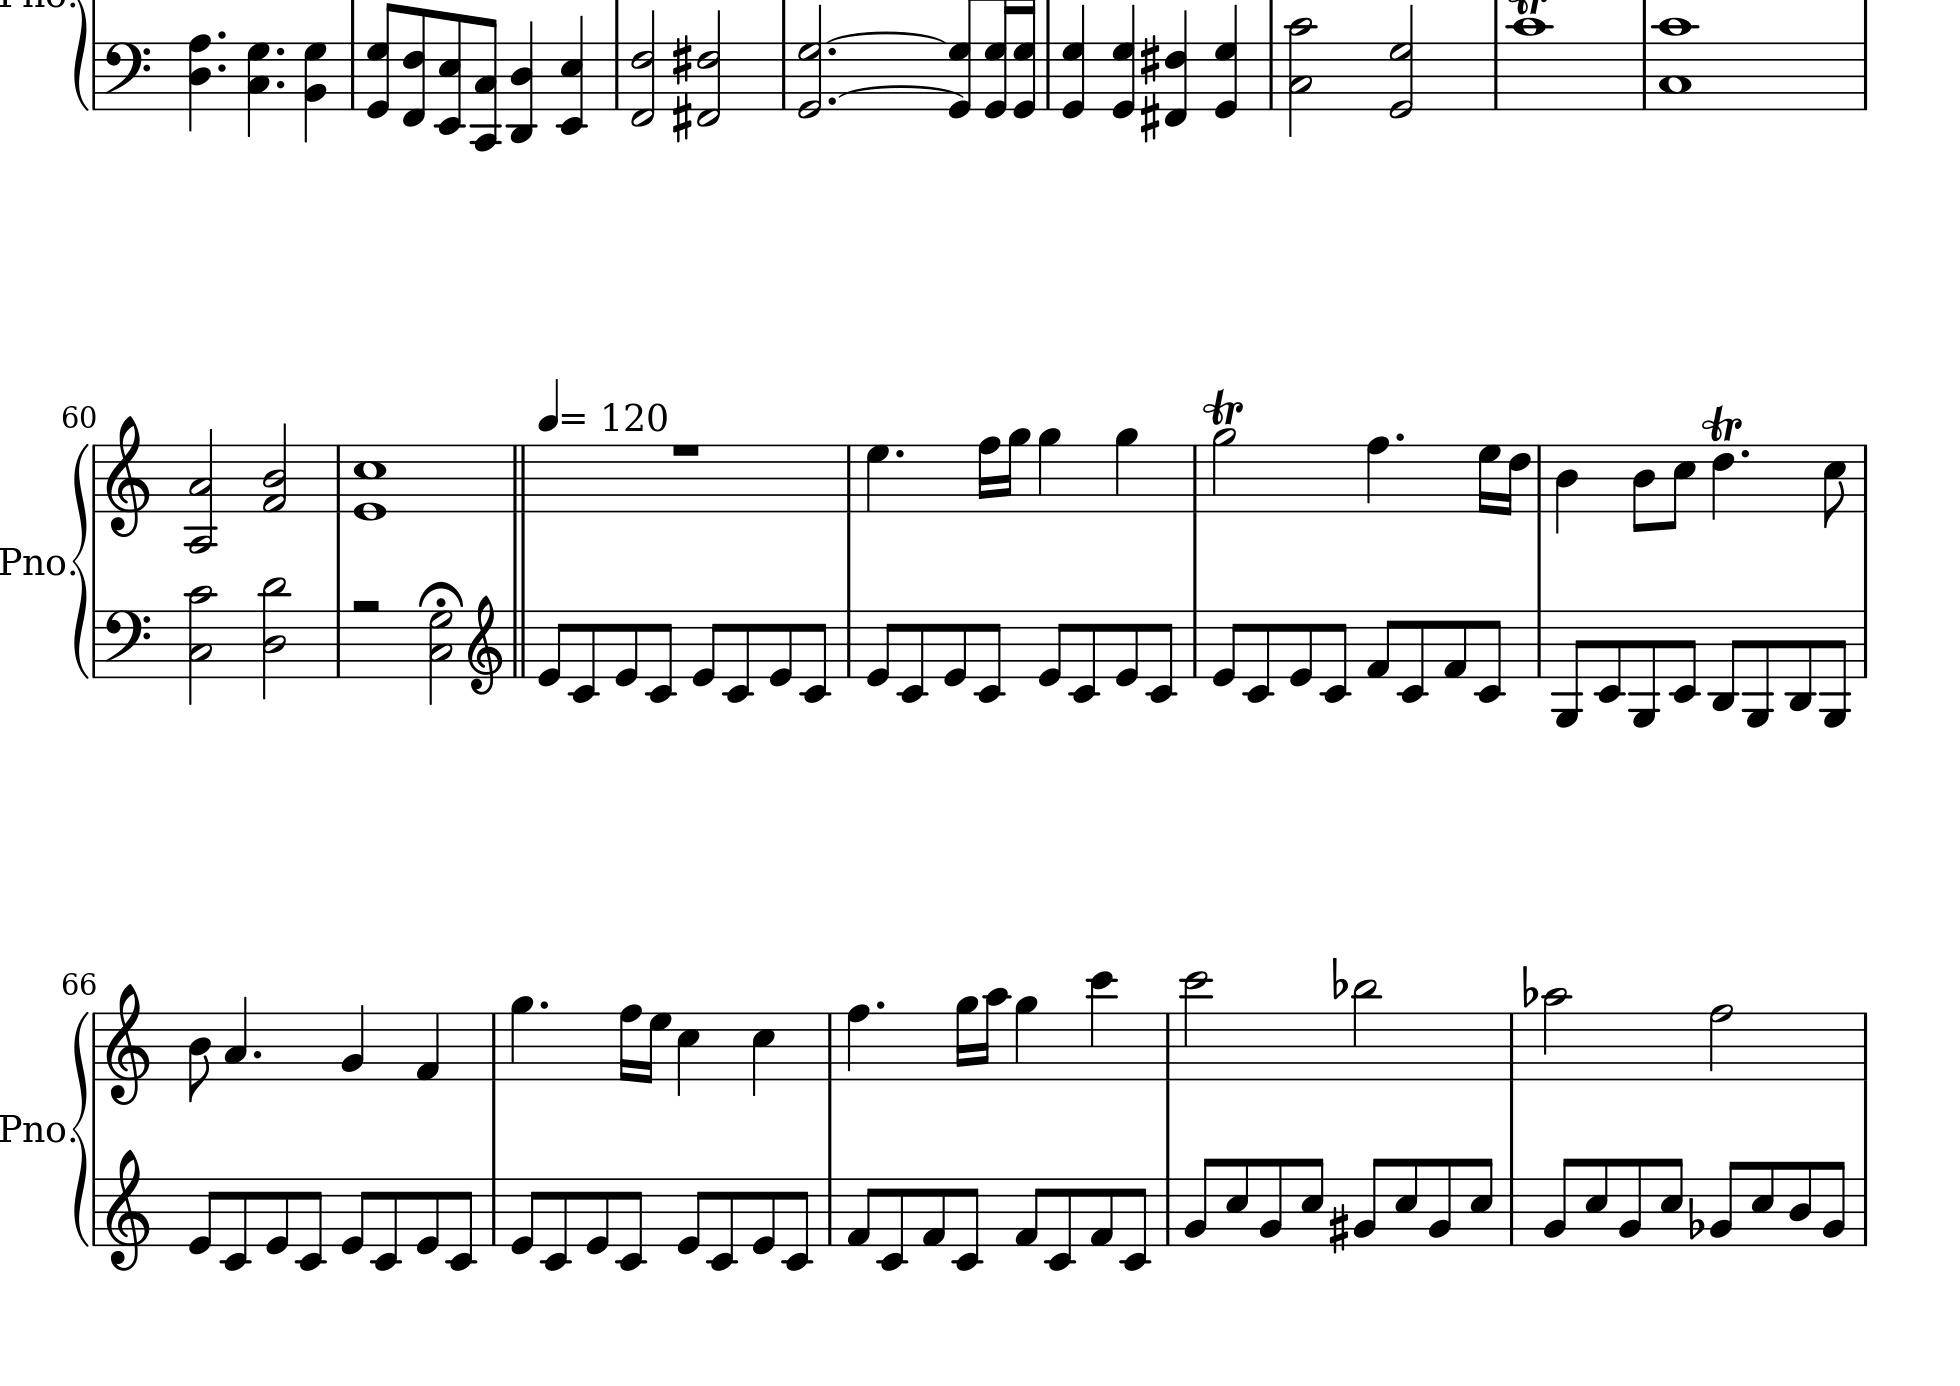0: (646, 399, 667, 432), (79, 400, 97, 430)
1: (601, 399, 619, 430)
16_10: (978, 985, 1009, 1081)
16_6: (1501, 442, 1531, 516)
16_7: (640, 1009, 670, 1084), (1476, 441, 1500, 514)
16_8: (973, 435, 999, 513), (616, 1002, 640, 1081)
16_9: (1002, 426, 1032, 513), (952, 994, 978, 1081)
1_0_5: (352, 442, 388, 523)
2: (622, 400, 645, 432)
2_-1_6: (628, 10, 657, 129), (696, 7, 724, 126)
2_-4_3: (183, 429, 220, 556)
2_0_7: (796, 1, 823, 120)
2_10: (1540, 985, 1569, 1081)
2_11: (1350, 978, 1380, 1081)
2_12: (1180, 969, 1212, 1081)
2_1_4: (261, 421, 289, 516)
2_3_10: (183, 585, 217, 709), (1285, 16, 1317, 139)
2_3_7: (427, 609, 454, 706)
2_4_11: (256, 576, 292, 697)
2_8: (1707, 1000, 1734, 1081)
2_9: (1209, 426, 1236, 513)
4_-1_6: (1164, 9, 1191, 129)
4_-2_5: (553, 15, 589, 138)
4_-3_4: (505, 19, 538, 144)
4_0_7: (1059, 3, 1089, 118), (1212, 4, 1242, 118), (1110, 4, 1138, 118)
4_1: (412, 1009, 439, 1081)
4_12: (1086, 969, 1116, 1081)
4_2: (340, 1002, 366, 1081)
4_2_7: (303, 40, 328, 142)
4_3: (223, 994, 247, 1081)
4_3_7: (246, 40, 274, 139)
4_4: (1554, 442, 1579, 534)
4_4_8: (187, 33, 214, 133)
4_5: (675, 1009, 700, 1098), (750, 1009, 775, 1098)
4_6: (1710, 442, 1735, 520)
4_7: (864, 442, 889, 513)
4_8: (1365, 433, 1389, 514), (844, 1002, 868, 1081)
4_9: (1113, 424, 1140, 513), (1036, 424, 1062, 513), (508, 993, 534, 1081), (1014, 993, 1038, 1081)
6: (61, 402, 79, 430), (61, 969, 79, 996), (79, 969, 97, 996)
8_-1_6: (400, 4, 427, 127)
8_-2: (219, 1176, 250, 1273), (294, 1174, 325, 1272), (615, 1174, 646, 1272), (1119, 1174, 1150, 1272), (973, 607, 1005, 703), (1474, 607, 1506, 703), (1593, 607, 1624, 703), (370, 1174, 400, 1272), (445, 1174, 475, 1272), (540, 1174, 570, 1272), (568, 607, 598, 703), (645, 607, 675, 703), (721, 607, 751, 703), (799, 607, 829, 703), (1146, 607, 1176, 703), (1320, 607, 1350, 703), (1398, 607, 1428, 703), (706, 1176, 736, 1272), (781, 1176, 811, 1272), (952, 1176, 982, 1272), (897, 607, 925, 703), (1069, 607, 1098, 703), (1243, 607, 1272, 703), (1671, 607, 1699, 703), (877, 1176, 906, 1272), (1045, 1176, 1074, 1272)
8_-2_5: (432, 10, 466, 135)
8_-3: (1708, 607, 1741, 712), (1786, 609, 1815, 711)
8_-4_3: (468, 13, 502, 151)
8_-5: (1551, 607, 1587, 729), (1818, 607, 1851, 729), (1743, 606, 1774, 729), (1629, 607, 1660, 729)
8_0: (337, 1174, 370, 1255), (535, 607, 568, 687), (508, 1176, 541, 1255), (690, 607, 721, 687), (1036, 607, 1068, 687), (1210, 607, 1242, 687), (186, 1176, 217, 1255), (675, 1176, 706, 1255), (865, 607, 895, 687), (583, 1174, 610, 1255), (1287, 607, 1314, 687), (613, 607, 640, 685), (766, 607, 793, 685), (940, 607, 967, 685), (1113, 607, 1140, 685), (264, 1174, 289, 1255), (414, 1174, 439, 1255), (750, 1174, 775, 1255)
8_0_7: (364, 1, 400, 120)
8_1: (1012, 1174, 1045, 1248), (1365, 607, 1396, 679), (844, 1176, 876, 1248), (1441, 607, 1468, 679), (1087, 1174, 1114, 1246), (919, 1176, 946, 1246)
8_2: (1351, 1156, 1386, 1246), (1182, 1156, 1215, 1246), (1542, 1156, 1575, 1246), (1708, 1159, 1741, 1246), (1617, 1155, 1644, 1246), (1257, 1156, 1284, 1246), (1426, 1156, 1453, 1246), (1821, 1158, 1848, 1248)
8_4: (1788, 1158, 1815, 1246), (186, 1009, 211, 1102), (1632, 442, 1656, 534)
8_5: (1663, 442, 1695, 531), (1392, 1155, 1419, 1246), (1821, 442, 1848, 529), (1749, 1159, 1776, 1246), (1224, 1155, 1249, 1246), (1299, 1155, 1324, 1246), (1584, 1155, 1609, 1246), (1468, 1156, 1494, 1246), (1659, 1155, 1683, 1246)
Brace: (70, 441, 90, 679), (70, 1009, 88, 1246)
Double_barline: (507, 444, 531, 511), (508, 607, 529, 676)
Fclef: (100, 40, 151, 112), (103, 607, 151, 679)
Fermata_above: (417, 580, 465, 607)
Flat: (1686, 1194, 1705, 1240), (1521, 961, 1539, 1008), (1330, 952, 1347, 1000)
Gclef: (103, 412, 151, 538), (103, 1146, 151, 1270), (103, 981, 150, 1105), (466, 592, 504, 696)
Pno: (1, 1110, 64, 1147), (1, 544, 64, 580)
Rests1: (667, 439, 703, 459)
Rests2: (346, 594, 385, 618)
Sharp: (669, 31, 693, 85), (1327, 1201, 1350, 1255), (1138, 31, 1161, 84), (670, 91, 691, 142), (1140, 91, 1159, 142)
Single_barline: (1501, 1177, 1524, 1245), (1854, 1177, 1875, 1246), (1854, 1011, 1875, 1078), (1635, 42, 1654, 109), (1186, 444, 1206, 511), (1503, 1011, 1522, 1078), (1263, 40, 1281, 109), (328, 444, 346, 511), (1159, 1012, 1177, 1080), (1855, 43, 1873, 109), (343, 40, 360, 109), (1857, 442, 1873, 511), (609, 42, 625, 109), (1488, 42, 1504, 109), (1531, 444, 1548, 511), (330, 609, 346, 676), (1159, 1177, 1176, 1245), (820, 1177, 837, 1245), (840, 445, 856, 511), (840, 610, 856, 676), (1531, 610, 1548, 676), (822, 1012, 838, 1078), (486, 1012, 502, 1078), (484, 1179, 501, 1245), (1857, 609, 1872, 678), (1041, 42, 1056, 109), (775, 42, 790, 108), (1188, 610, 1203, 676), (88, 43, 102, 109), (88, 610, 102, 676), (88, 444, 100, 511), (88, 1012, 100, 1080), (88, 1179, 100, 1243)
Slur: (825, 30, 945, 43)
Speed4: (541, 376, 586, 429)
Trill: (1201, 384, 1245, 427), (1699, 400, 1744, 442)
dot: (273, 43, 286, 58), (892, 445, 906, 460), (1738, 445, 1752, 460), (537, 997, 550, 1012), (825, 45, 838, 58), (214, 60, 228, 73), (274, 76, 286, 91), (214, 28, 228, 40), (826, 93, 838, 106), (1393, 430, 1407, 442), (874, 997, 886, 1011), (250, 1047, 262, 1060)
